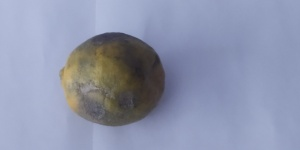BAD: (57, 32, 166, 127)
